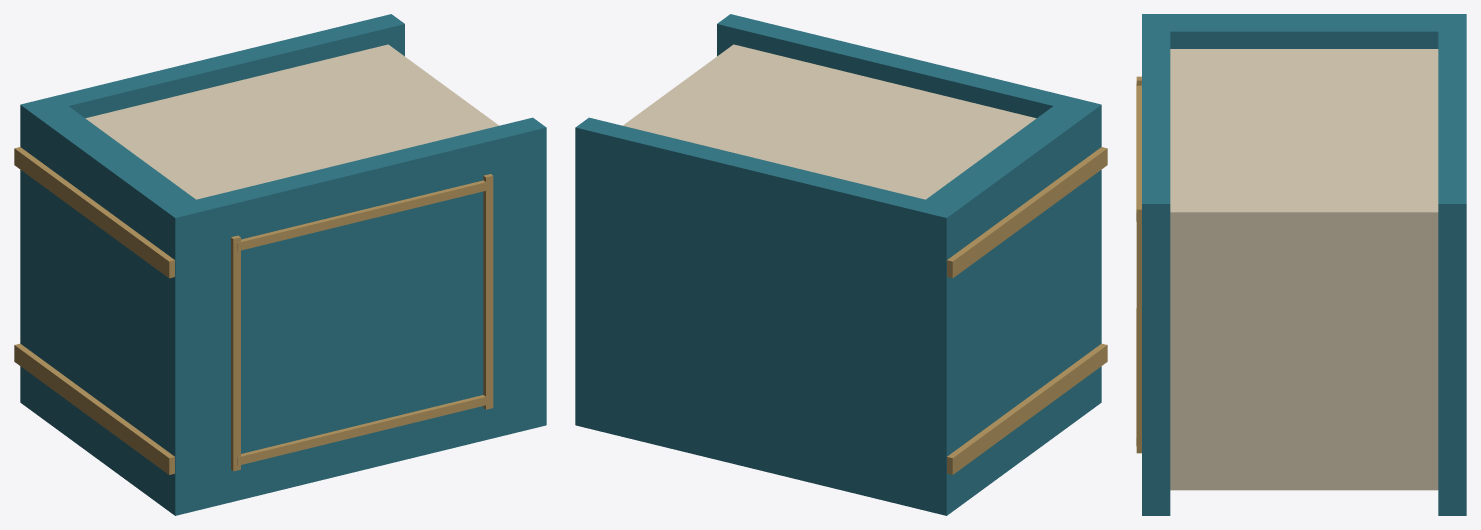
Rendered from floating-closed-book.glb.
3 views of the same model, side by side, from view 1: azimuth 30°, elevation 25°; view 2: azimuth 150°, elevation 25°; view 3: azimuth 270°, elevation 25° (orthographic). The views are drawn at different scales.
Visible parts, largest first — view 1: FloatingClosedBook_teal, FloatingClosedBook_paper, FloatingClosedBook_gold; view 2: FloatingClosedBook_teal, FloatingClosedBook_paper, FloatingClosedBook_gold; view 3: FloatingClosedBook_paper, FloatingClosedBook_teal, FloatingClosedBook_gold.
Part boxes in pixels (x1=…): FloatingClosedBook_teal: x1=20, y1=14, x2=546, y2=515; FloatingClosedBook_paper: x1=85, y1=44, x2=498, y2=199; FloatingClosedBook_gold: x1=14, y1=147, x2=493, y2=474; FloatingClosedBook_teal: x1=575, y1=14, x2=1101, y2=515; FloatingClosedBook_paper: x1=623, y1=44, x2=1036, y2=199; FloatingClosedBook_gold: x1=947, y1=147, x2=1107, y2=474; FloatingClosedBook_paper: x1=1170, y1=49, x2=1438, y2=490; FloatingClosedBook_teal: x1=1142, y1=14, x2=1466, y2=515; FloatingClosedBook_gold: x1=1136, y1=76, x2=1141, y2=453.
Bounding box in the file's own units: 0.6095 × 0.46 × 0.4415.
